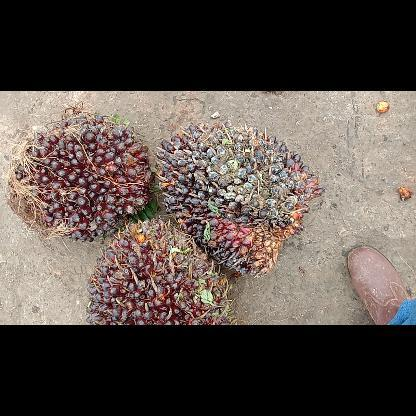Kurang masak: (9, 108, 148, 240), (88, 222, 232, 324)
TBS mentah: (154, 124, 326, 276)
